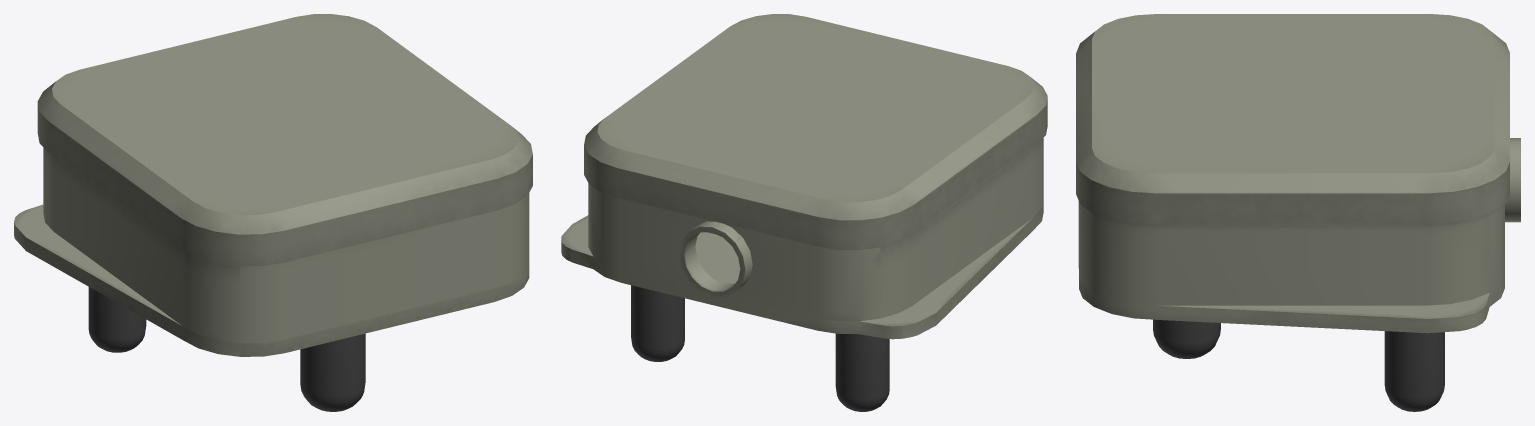
File: SocketPlug.fbx
The picture shows the model from 3 angles, left to right: view 1: azimuth 30°, elevation 25°; view 2: azimuth 150°, elevation 25°; view 3: azimuth 270°, elevation 25°; orthographic projection. The views are drawn at different scales.
Parts seen in each view (by area): view 1: PlugCover, PlugInner, PlugPins; view 2: PlugCover, PlugInner, PlugPins; view 3: PlugCover, PlugInner, PlugPins.
Boxes of the visible parts, <box> form: PlugCover: <box>37,14,532,266</box>; PlugInner: <box>14,147,529,356</box>; PlugPins: <box>88,287,365,411</box>; PlugCover: <box>584,14,1047,249</box>; PlugInner: <box>561,138,1043,339</box>; PlugPins: <box>631,285,889,411</box>; PlugCover: <box>1076,14,1509,225</box>; PlugInner: <box>1078,138,1520,333</box>; PlugPins: <box>1153,319,1444,411</box>.
Size of the model in its own units: 21.04 by 13.15 by 20.22.
1 material, 1 textured.
